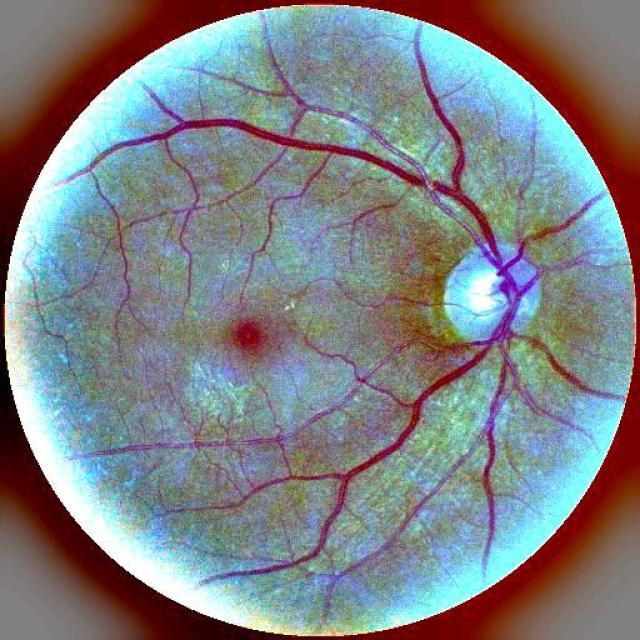Macula: (234, 321, 261, 350)
Optic Disk: (444, 248, 512, 340), (520, 280, 538, 319)
